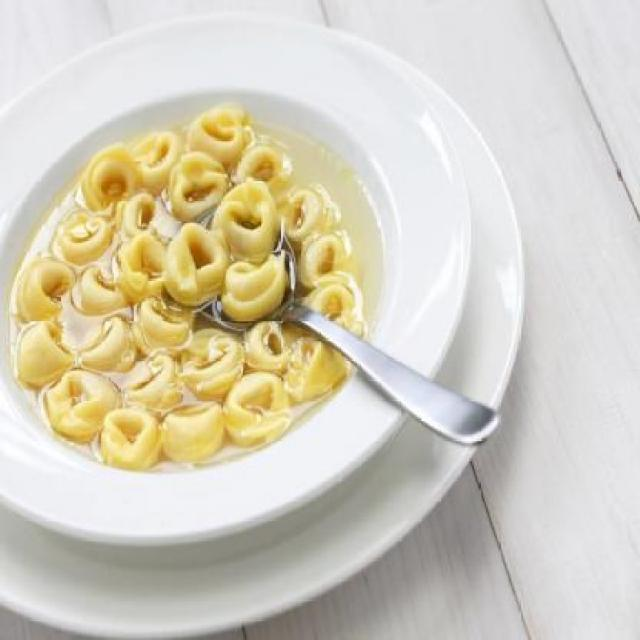Tortellini in broth: (24, 98, 333, 468)
